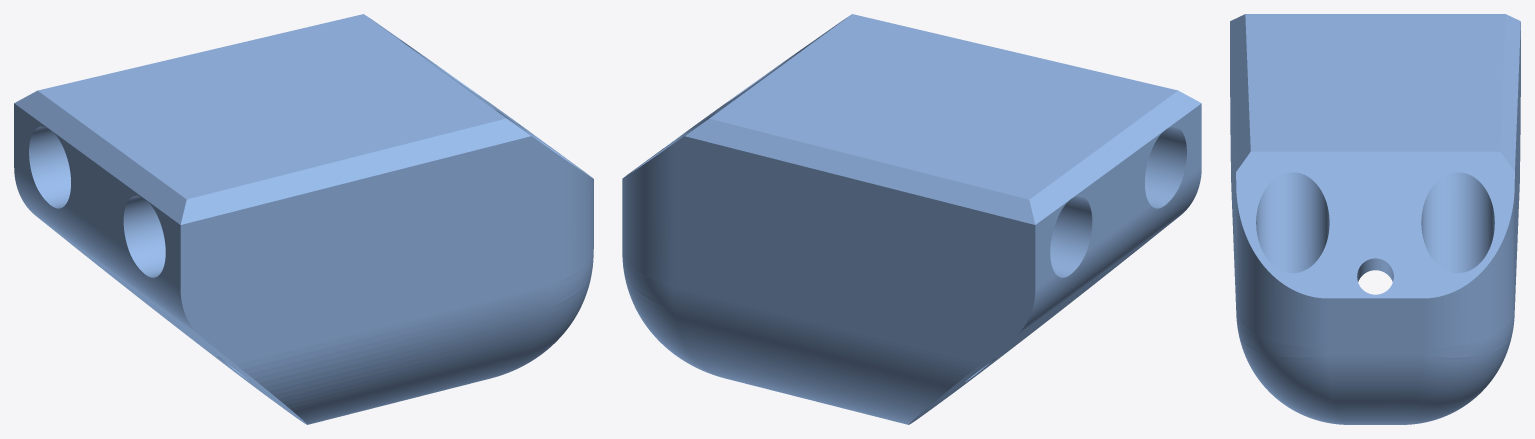
Rendered from pulgar_3.dae.
The picture shows the model from 3 angles, left to right: view 1: azimuth 30°, elevation 25°; view 2: azimuth 150°, elevation 25°; view 3: azimuth 270°, elevation 25°; orthographic projection. The views are drawn at different scales.
Parts seen in each view (by area): view 1: Fingerdesign-All-2; view 2: Fingerdesign-All-2; view 3: Fingerdesign-All-2.
Part boxes in pixels (<box>): Fingerdesign-All-2: <box>14,14,593,424</box>; Fingerdesign-All-2: <box>622,14,1201,424</box>; Fingerdesign-All-2: <box>1230,14,1520,424</box>.
Size of the model in its own units: 0.025 by 0.0158 by 0.0158.
